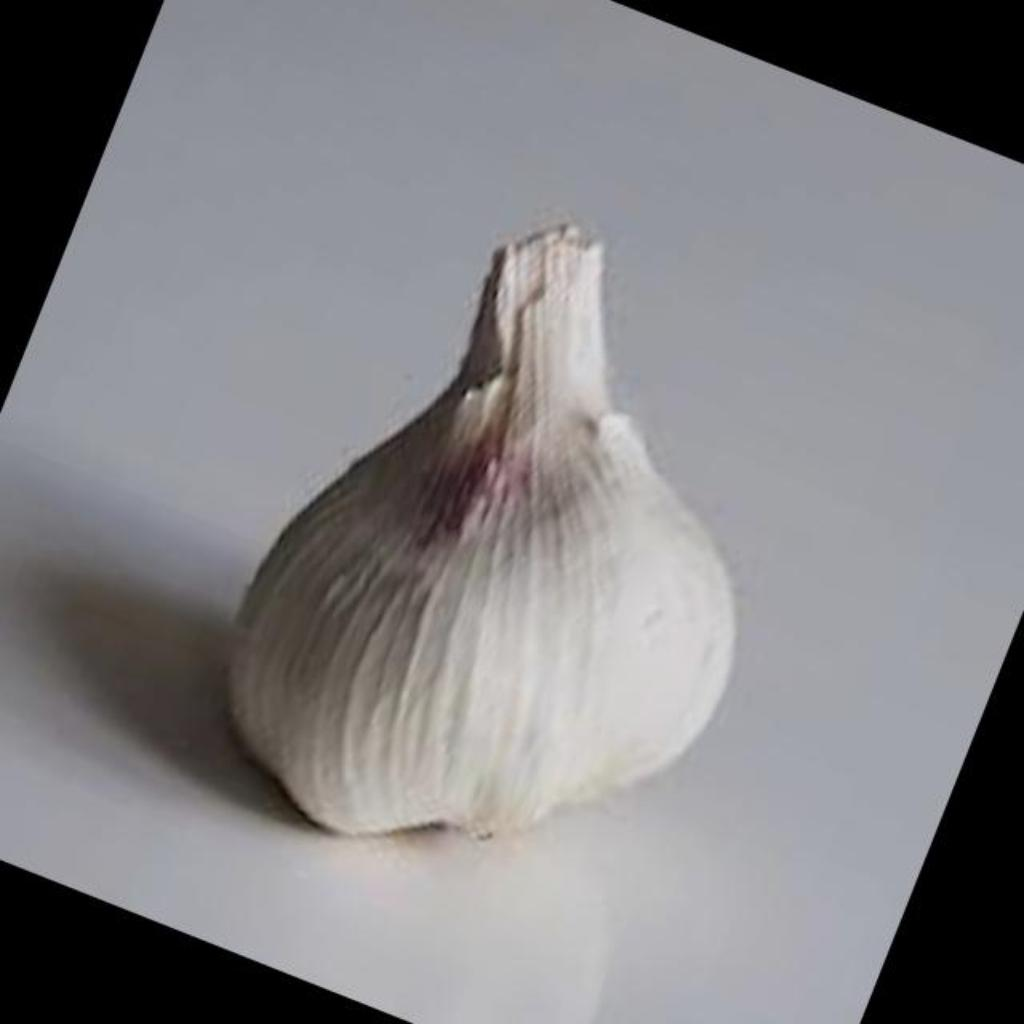garlic: (230, 224, 734, 836)
